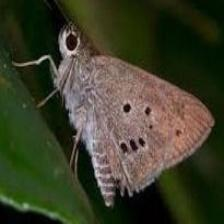butterfly: (13, 22, 215, 208)
